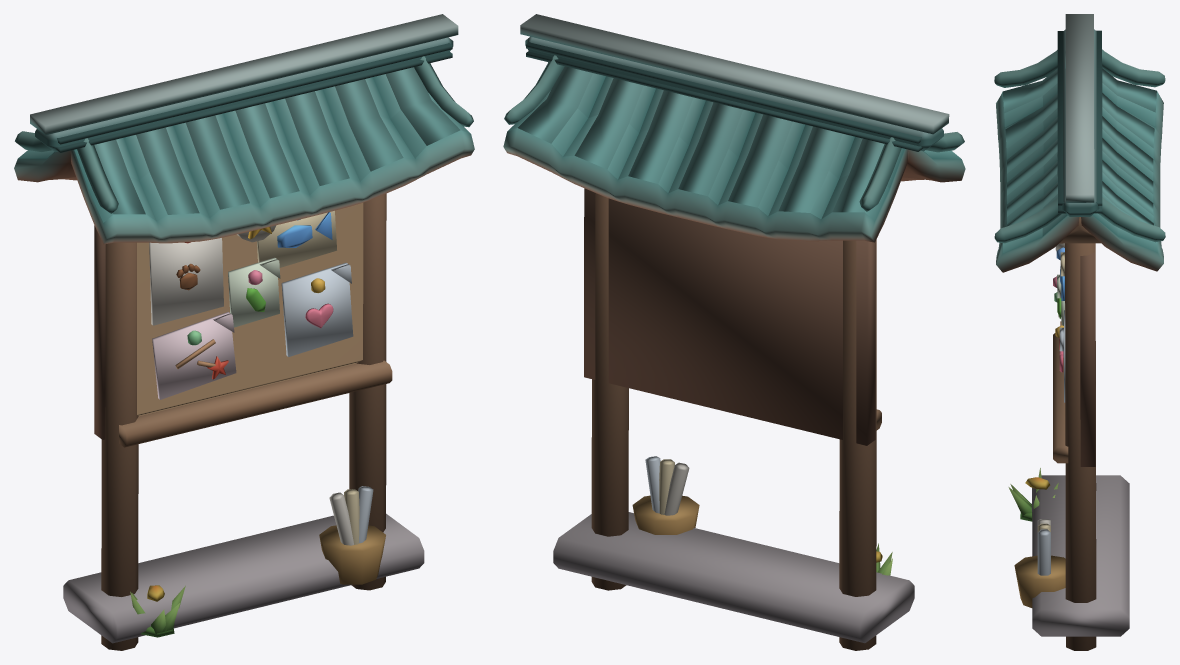
The model's file is bulletinBoard.glb.
The picture shows the model from 3 angles, left to right: view 1: azimuth 30°, elevation 25°; view 2: azimuth 150°, elevation 25°; view 3: azimuth 270°, elevation 25°; orthographic projection. The views are drawn at different scales.
Visible parts, largest first — view 1: bulletinBoard; view 2: bulletinBoard; view 3: bulletinBoard.
Part boxes in pixels (bbox=[...]): bulletinBoard: bbox=[14, 14, 474, 650]; bulletinBoard: bbox=[503, 14, 965, 650]; bulletinBoard: bbox=[994, 14, 1165, 650].
Size of the model in its own units: 1.4 by 1.76 by 0.5619.
